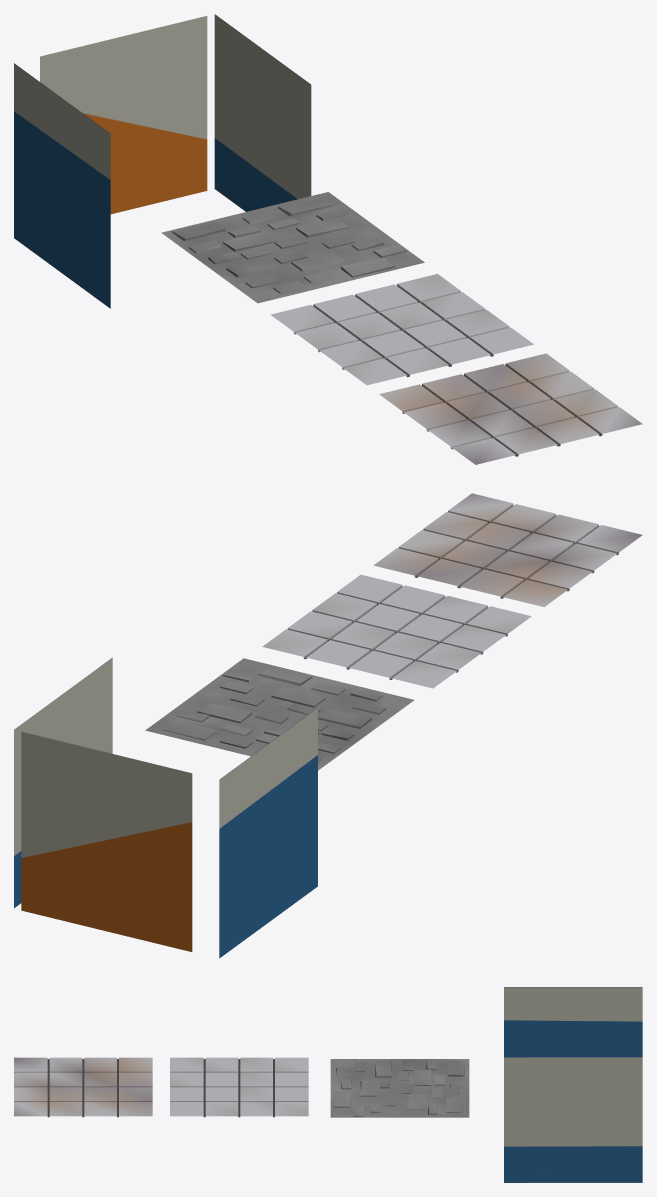
File: Laboratorio.fbx_Revestimento.fbx
The picture shows the model from 3 angles, top to bottom: view 1: azimuth 30°, elevation 25°; view 2: azimuth 150°, elevation 25°; view 3: azimuth 270°, elevation 25°; orthographic projection. The views are drawn at different scales.
Visible parts, largest first — view 1: ParedeDiagonal, ParedeAlta, PisoSujo, Piso, Chao, ParedeBaixa; view 2: ParedeDiagonal, ParedeAlta, Piso, PisoSujo, Chao, ParedeBaixa; view 3: ParedeBaixa, ParedeAlta, Piso, PisoSujo, Chao.
Part boxes in pixels (bbox=[...]): ParedeDiagonal: bbox=[40, 16, 207, 214]; ParedeAlta: bbox=[14, 63, 110, 308]; PisoSujo: bbox=[379, 353, 642, 464]; Piso: bbox=[271, 274, 533, 385]; Chao: bbox=[161, 192, 424, 303]; ParedeBaixa: bbox=[214, 14, 311, 211]; ParedeDiagonal: bbox=[21, 731, 192, 951]; ParedeAlta: bbox=[219, 708, 317, 958]; Piso: bbox=[262, 574, 531, 688]; PisoSujo: bbox=[373, 493, 642, 606]; Chao: bbox=[145, 658, 414, 770]; ParedeBaixa: bbox=[14, 657, 112, 908]; ParedeBaixa: bbox=[504, 1057, 642, 1182]; ParedeAlta: bbox=[504, 987, 642, 1057]; Piso: bbox=[170, 1057, 308, 1117]; PisoSujo: bbox=[14, 1057, 152, 1117]; Chao: bbox=[330, 1059, 469, 1117].
Bounding box in the file's own units: 240 × 200 × 907.
